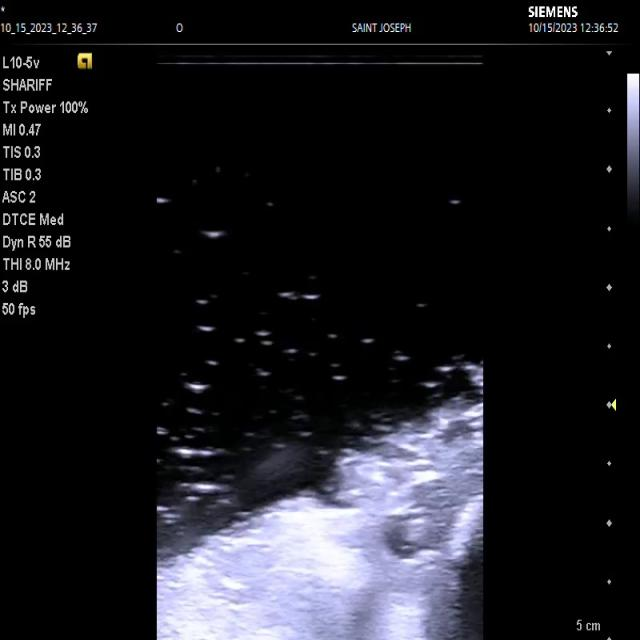tissue: (158, 364, 484, 640)
